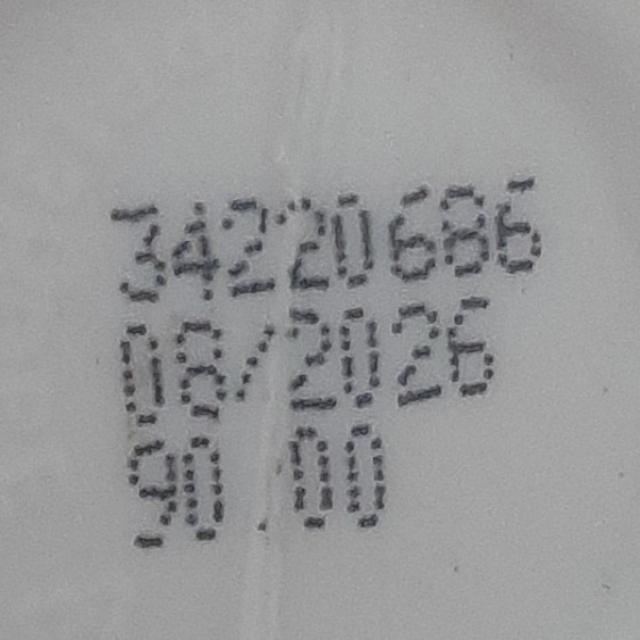sentence: (111, 178, 541, 303), (120, 297, 494, 422), (129, 422, 385, 548)
